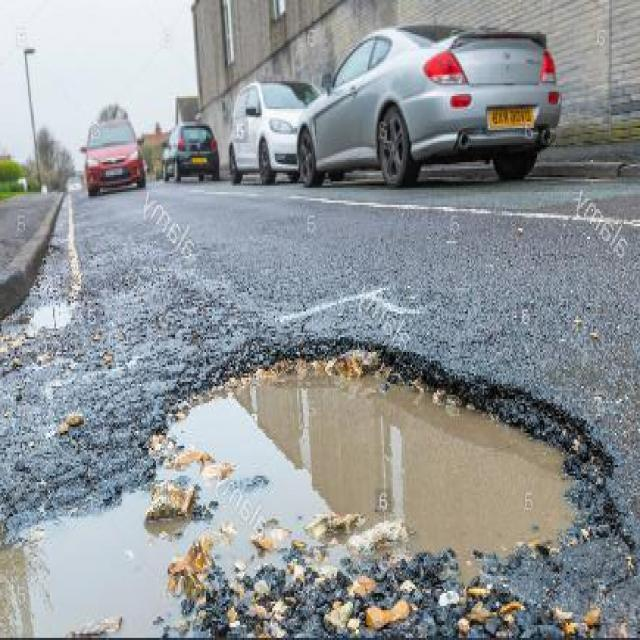Pothole: (141, 327, 622, 607), (3, 468, 227, 639), (30, 294, 79, 332)
